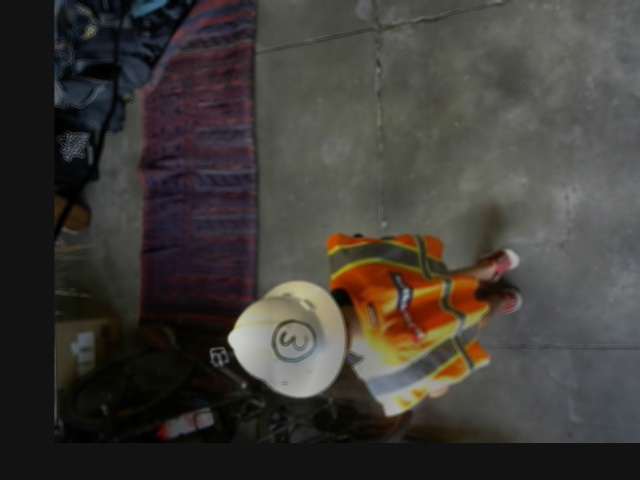three: (272, 319, 315, 360)
